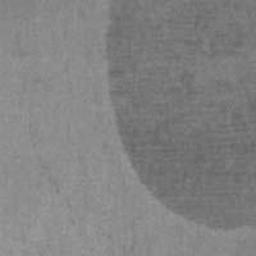Oil spot: (104, 0, 256, 232)
